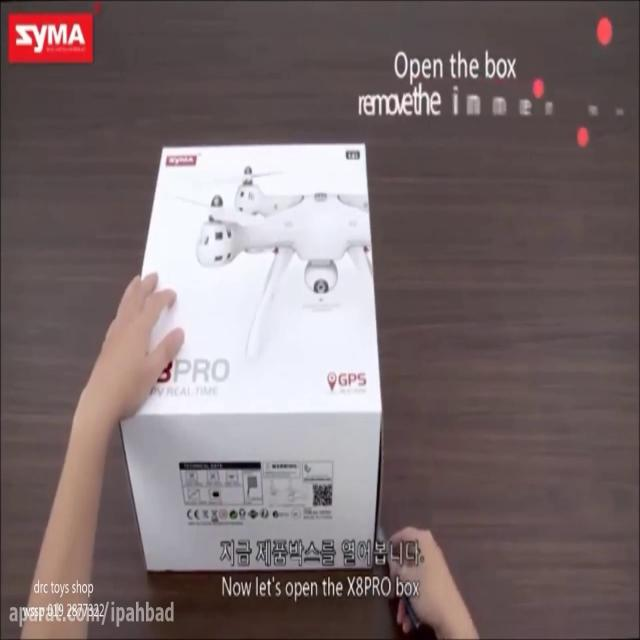drone: (174, 163, 376, 345)
